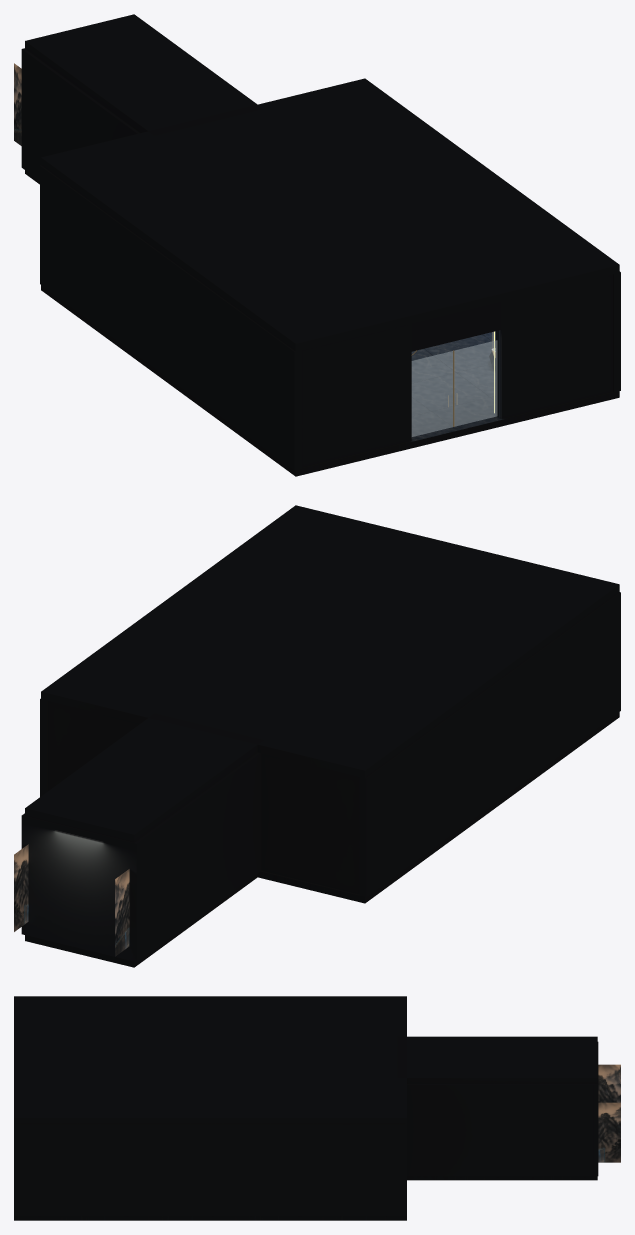
File: museum_R13.glb
The picture shows the model from 3 angles, top to bottom: view 1: azimuth 30°, elevation 25°; view 2: azimuth 150°, elevation 25°; view 3: azimuth 270°, elevation 25°; orthographic projection. The views are drawn at different scales.
Parts seen in each view (by area): view 1: R13_Baked_Architecture, Web_R13_Sliding glass door Right, Web_R13_Sliding glass door Left; view 2: R13_Baked_Architecture; view 3: R13_Baked_Architecture.
Part boxes in pixels (x1=…): R13_Baked_Architecture: x1=14, y1=14, x2=620, y2=476; Web_R13_Sliding glass door Right: x1=454, y1=340, x2=497, y2=426; Web_R13_Sliding glass door Left: x1=412, y1=351, x2=452, y2=436; R13_Baked_Architecture: x1=14, y1=505, x2=620, y2=967; R13_Baked_Architecture: x1=14, y1=996, x2=620, y2=1220.
Size of the model in its own units: 16.72 by 6.5 by 34.9.
Materials: 9 (2 with a texture image).
